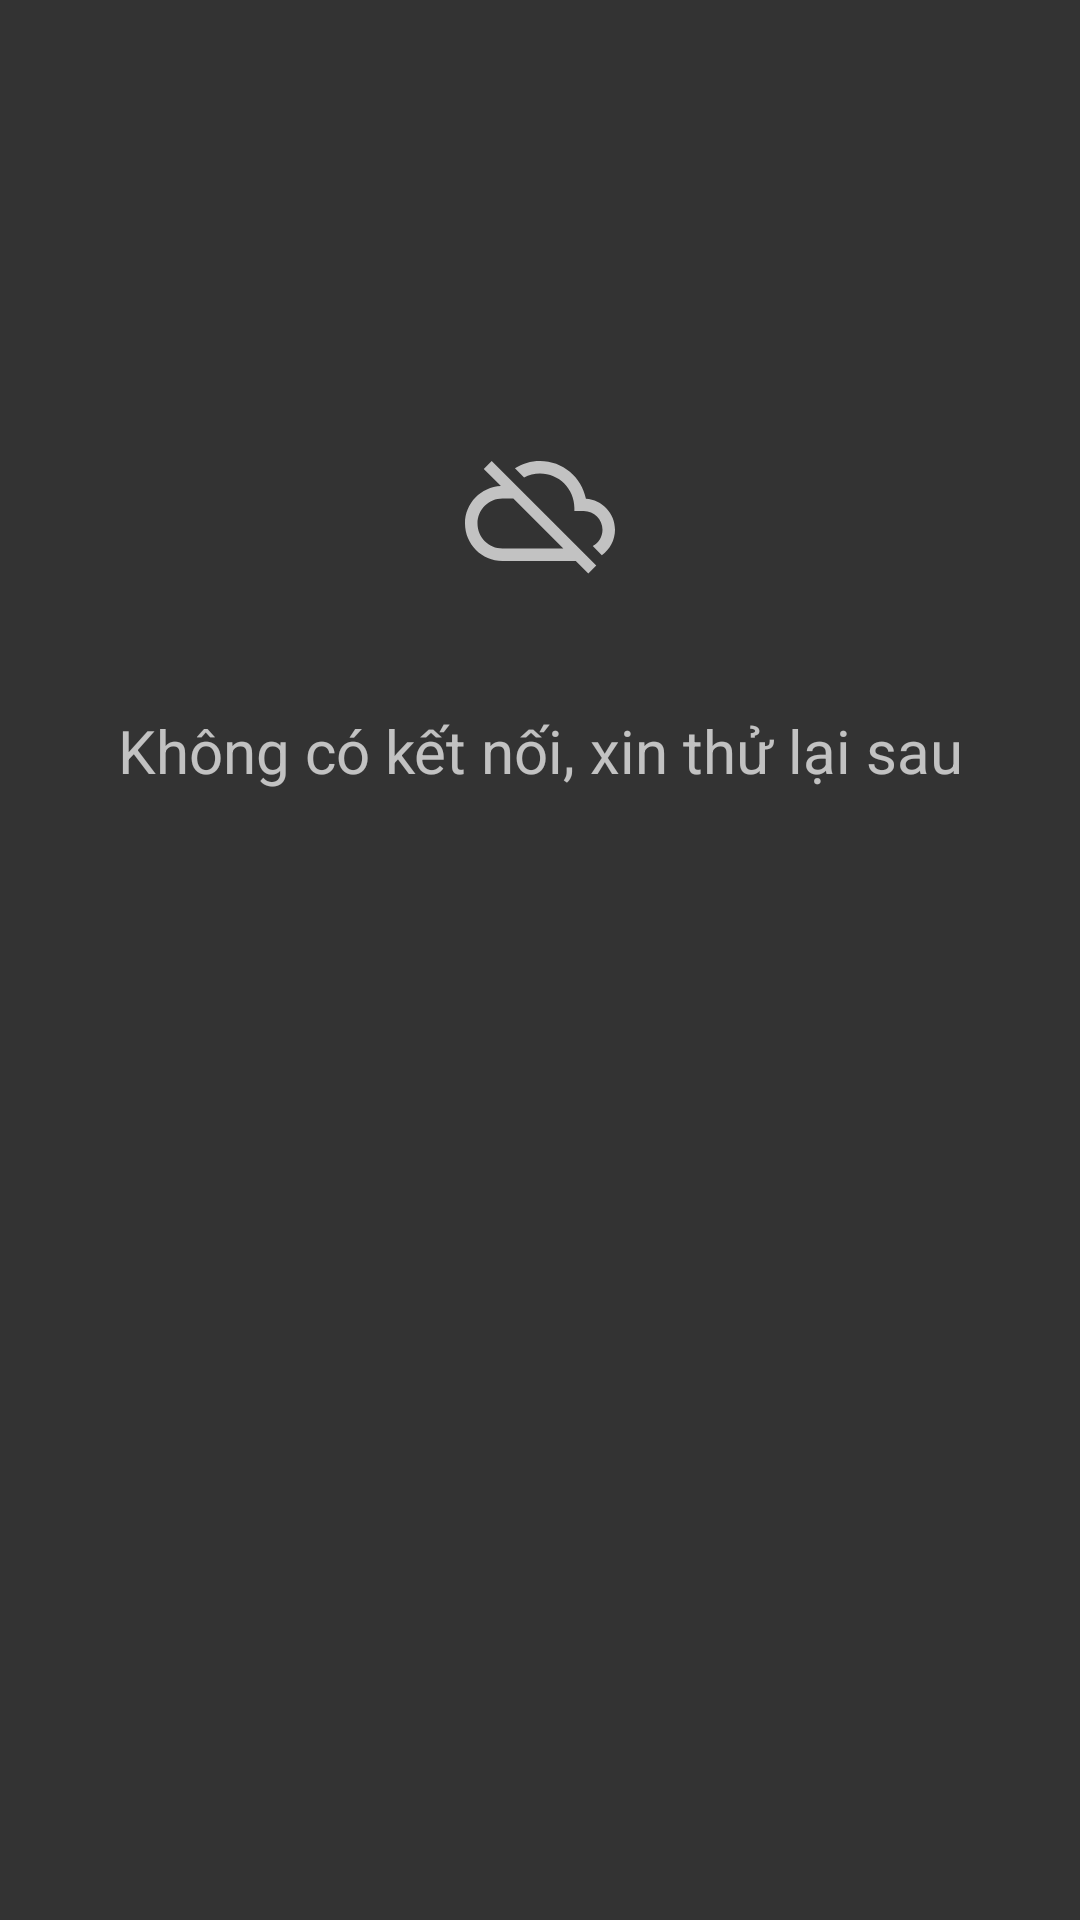

Screen size 1080 × 1920. Icon name, then its box in pixels as {"x1": x1, "y1": y1, "x2": x2, "y2": y2}:
no internet: {"x1": 465, "y1": 461, "x2": 615, "y2": 574}
